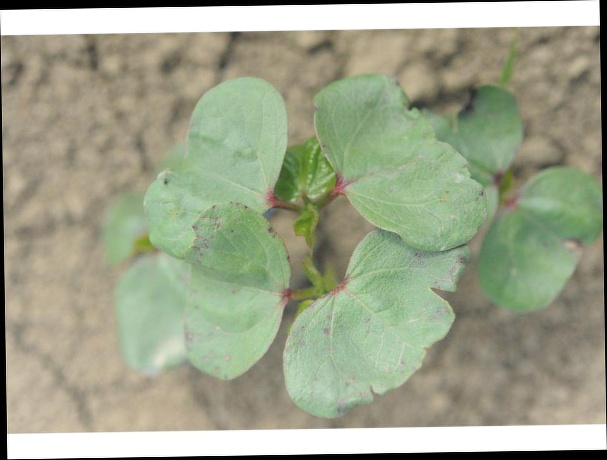cotton: (116, 75, 602, 416)
